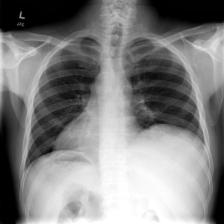normal: (18, 29, 211, 174)
